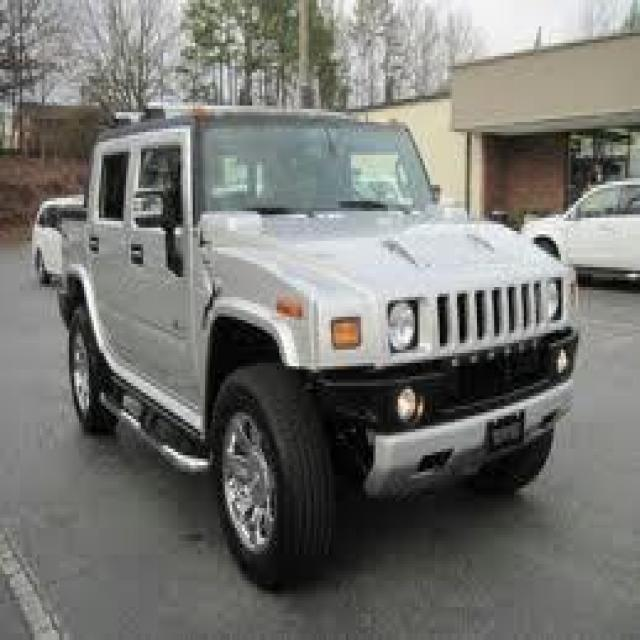car: (60, 105, 578, 591)
